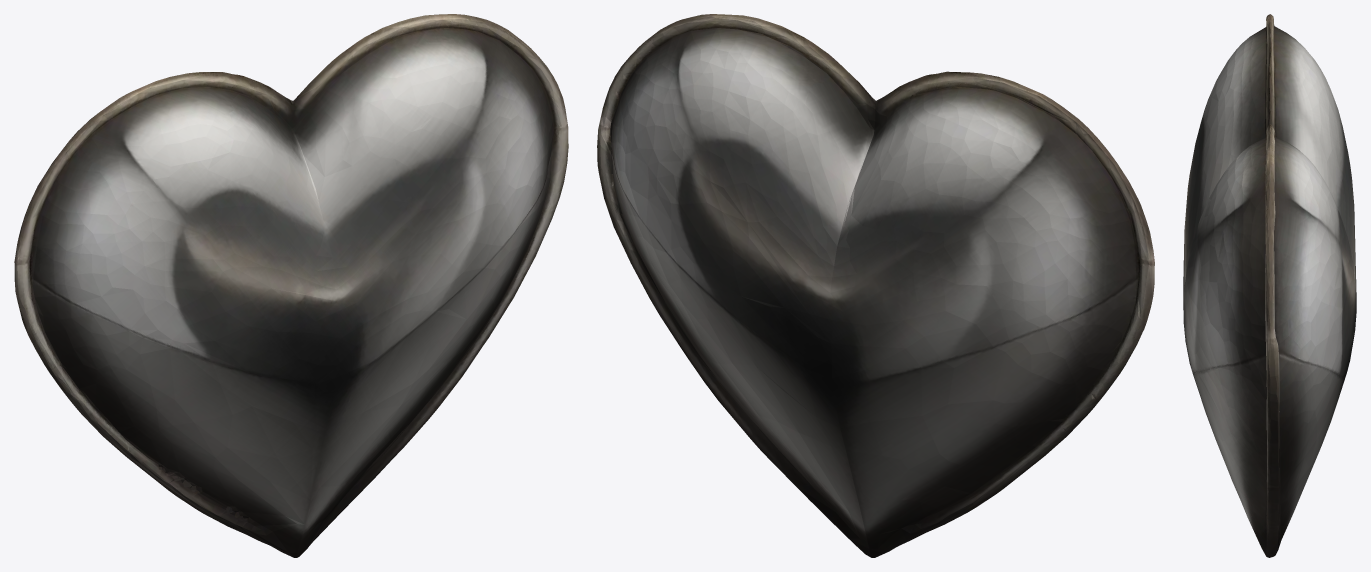
Rendered from heart.glb.
3 views of the same model, side by side, from view 1: azimuth 30°, elevation 25°; view 2: azimuth 150°, elevation 25°; view 3: azimuth 270°, elevation 25° (orthographic). The views are drawn at different scales.
Visible parts, largest first — view 1: world; view 2: world; view 3: world.
Boxes of the visible parts, x1,y1,x2,y2 form: world: [14, 14, 568, 557]; world: [597, 14, 1154, 557]; world: [1183, 14, 1356, 557].
Size of the model in its own units: 1 by 0.8832 by 0.2941.
Materials: 1 (1 with a texture image).
